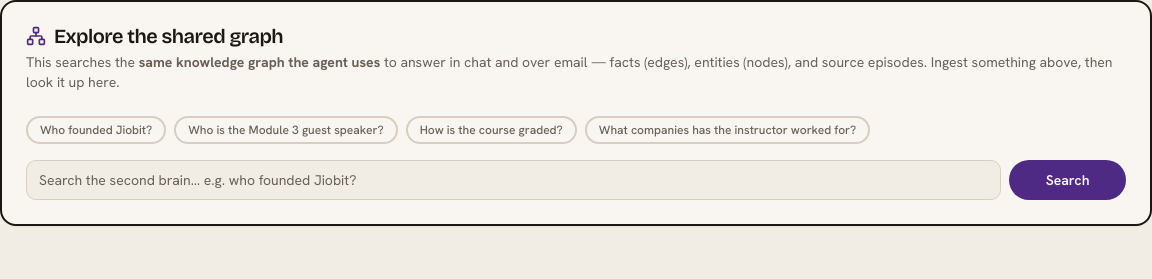
Test: DomainGraphExplorer › surfaces API errors
In the field named "domain graph query": (514, 180) [26,160,1001,200], type "who founded Jiobit?"
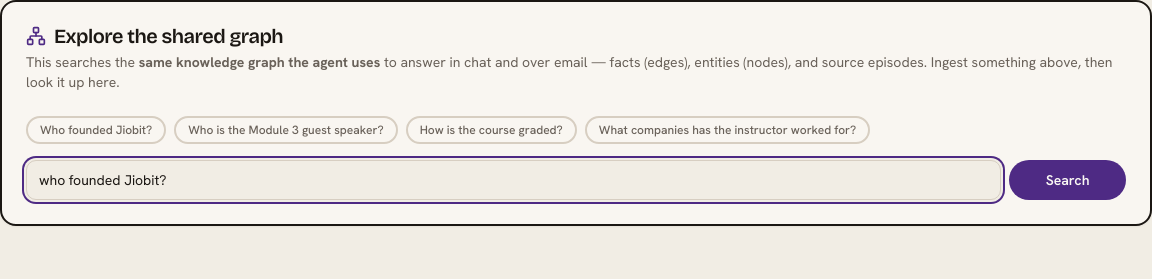
Click the button "Search": (1068, 180) [1009,160,1126,200]
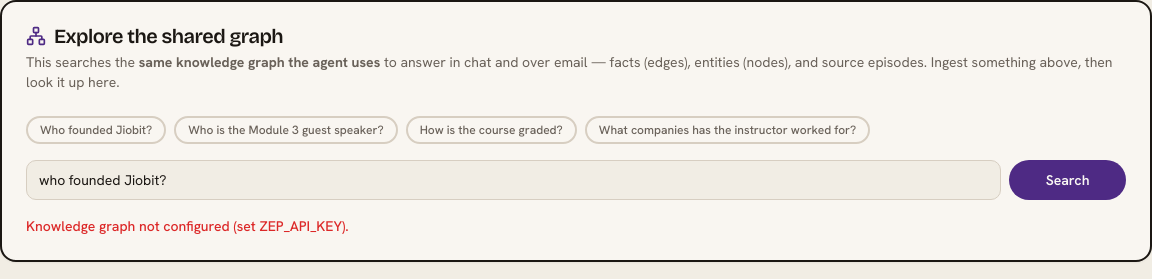
Result: the message shows "not configured" at [26,217,349,235]
